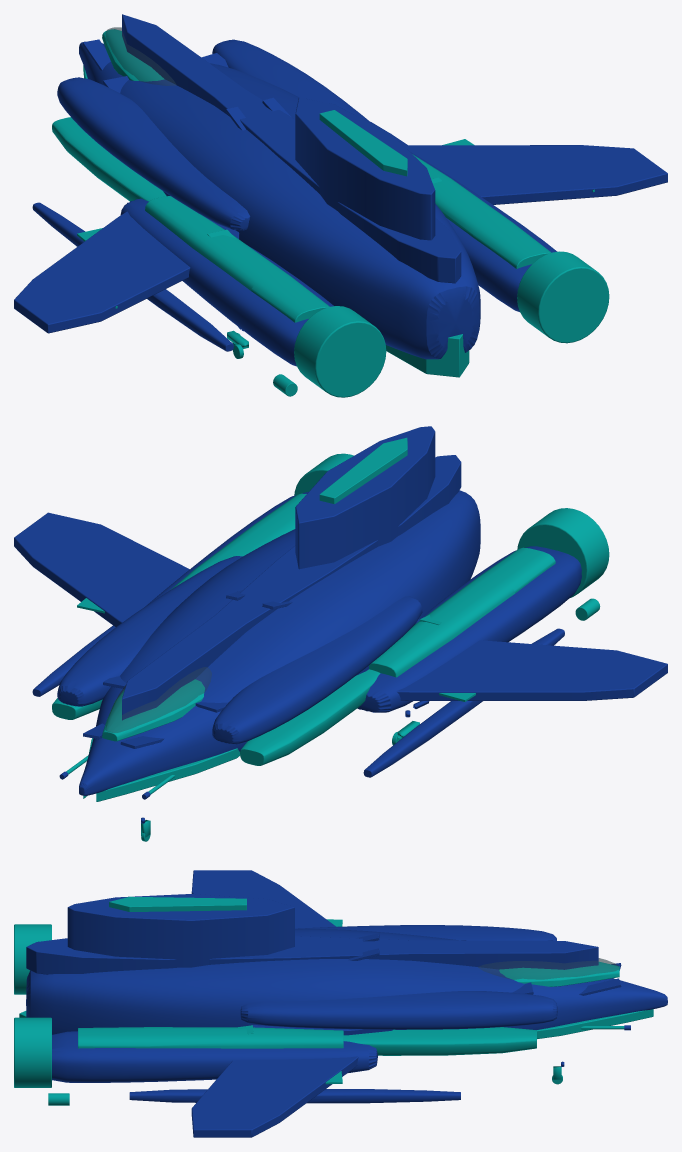
Rendered from player_spaceship.glb.
3 views of the same model, one above another, from view 1: azimuth 30°, elevation 25°; view 2: azimuth 150°, elevation 25°; view 3: azimuth 270°, elevation 25° (orthographic). The views are drawn at different scales.
Visible parts, largest first — view 1: MainHull, Wing_R, ShoulderPod_R, NozzleOuter_R, CenterSpine, EngineShroud_R, VerticalFin, EngineBody_R, ShoulderUnder_R, Store_R, FinCap, CanopyGlass (+2 smaller); view 2: MainHull, Wing_R, ShoulderPod_R, CenterSpine, VerticalFin, EngineShroud_R, EngineBody_R, ShoulderUnder_R, NozzleOuter_R, Store_R, CanopyFrame, CanopyGlass (+2 smaller); view 3: MainHull, ShoulderPod_R, VerticalFin, Wing_R, CenterSpine, EngineBody_R, EngineShroud_R, ShoulderUnder_R, NozzleOuter_R, Store_R, CanopyGlass, FinCap (+3 smaller).
Boxes of the visible parts, <box> form: MainHull: <box>79,41,480,359</box>; Wing_R: <box>14,145,667,333</box>; ShoulderPod_R: <box>57,39,372,230</box>; NozzleOuter_R: <box>294,251,609,397</box>; CenterSpine: <box>122,14,461,283</box>; EngineShroud_R: <box>145,154,551,322</box>; VerticalFin: <box>295,97,435,240</box>; EngineBody_R: <box>120,152,556,366</box>; ShoulderUnder_R: <box>52,117,166,201</box>; Store_R: <box>32,122,407,351</box>; FinCap: <box>319,110,407,176</box>; CanopyGlass: <box>105,27,176,85</box>; MainHull: <box>79,490,480,795</box>; Wing_R: <box>14,512,667,700</box>; ShoulderPod_R: <box>57,556,422,744</box>; CenterSpine: <box>122,455,461,720</box>; VerticalFin: <box>295,426,435,569</box>; EngineShroud_R: <box>171,493,555,677</box>; EngineBody_R: <box>146,492,581,712</box>; ShoulderUnder_R: <box>52,669,380,765</box>; NozzleOuter_R: <box>294,453,609,597</box>; Store_R: <box>32,625,564,777</box>; CanopyFrame: <box>102,679,204,741</box>; CanopyGlass: <box>105,667,211,732</box>; MainHull: <box>26,929,667,1034</box>; ShoulderPod_R: <box>240,925,557,1029</box>; VerticalFin: <box>67,894,294,967</box>; Wing_R: <box>191,870,358,1137</box>; CenterSpine: <box>26,936,598,974</box>; EngineBody_R: <box>52,1031,377,1082</box>; EngineShroud_R: <box>78,1027,343,1048</box>; ShoulderUnder_R: <box>343,1027,536,1055</box>; NozzleOuter_R: <box>14,924,51,1087</box>; Store_R: <box>129,1089,460,1103</box>; CanopyGlass: <box>478,958,618,979</box>; FinCap: <box>109,896,246,911</box>.
Bounding box in the file's own units: 17.8 × 6.12 × 18.95.
